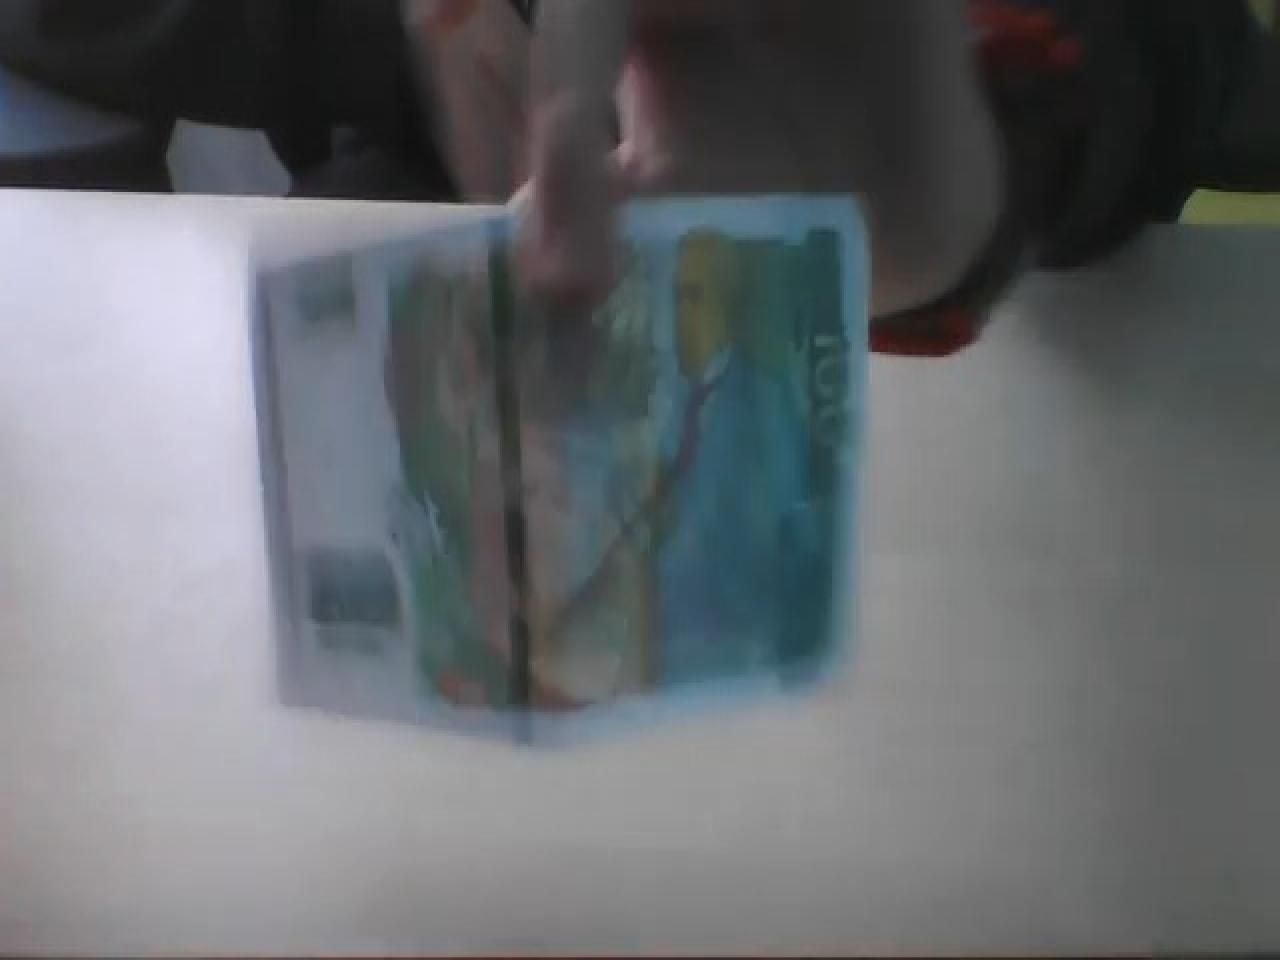100leva: (252, 187, 872, 744)
